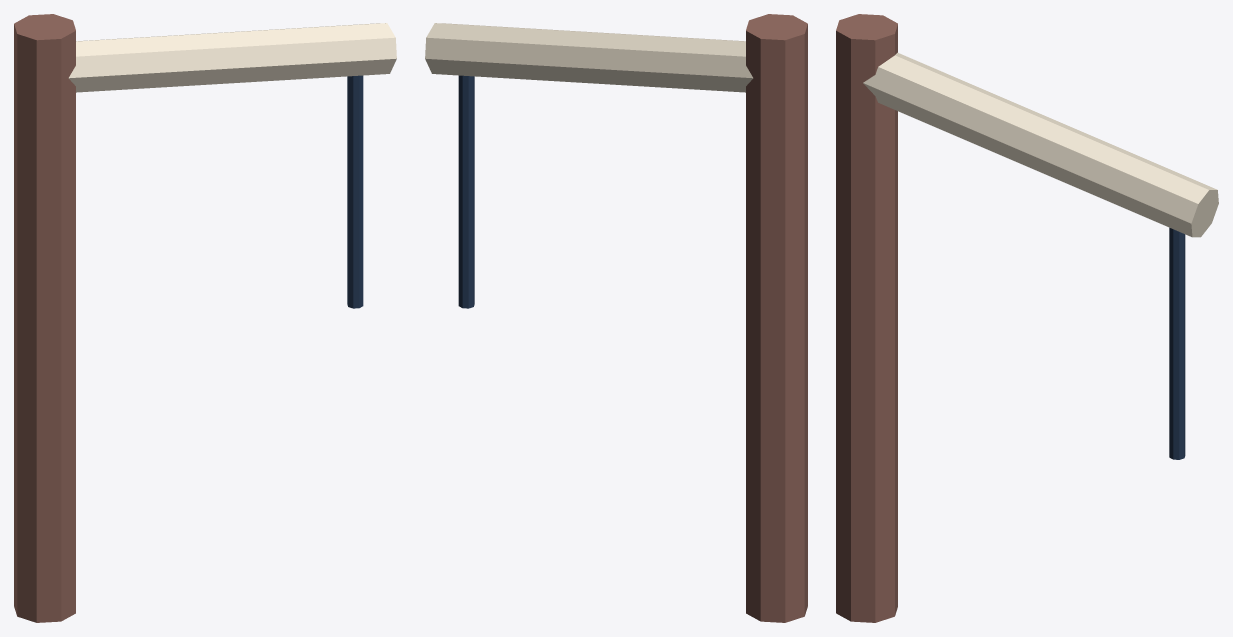
File: port-crane.glb
3 renders of one model, left to right at view 1: azimuth 30°, elevation 25°; view 2: azimuth 150°, elevation 25°; view 3: azimuth 330°, elevation 25°, orthographic.
Visible parts, largest first — view 1: Crane mast, Crane arm, Crane cable; view 2: Crane mast, Crane arm, Crane cable; view 3: Crane mast, Crane arm, Crane cable.
Boxes of the visible parts, <box> form: Crane mast: <box>14,14,75,622</box>; Crane arm: <box>68,23,396,92</box>; Crane cable: <box>347,75,363,308</box>; Crane mast: <box>746,14,807,622</box>; Crane arm: <box>425,23,753,92</box>; Crane cable: <box>458,75,474,308</box>; Crane mast: <box>836,14,897,622</box>; Crane arm: <box>863,52,1218,237</box>; Crane cable: <box>1169,227,1185,459</box>.
Bounding box in the file's own units: 0.9304 × 1.4 × 0.14.
